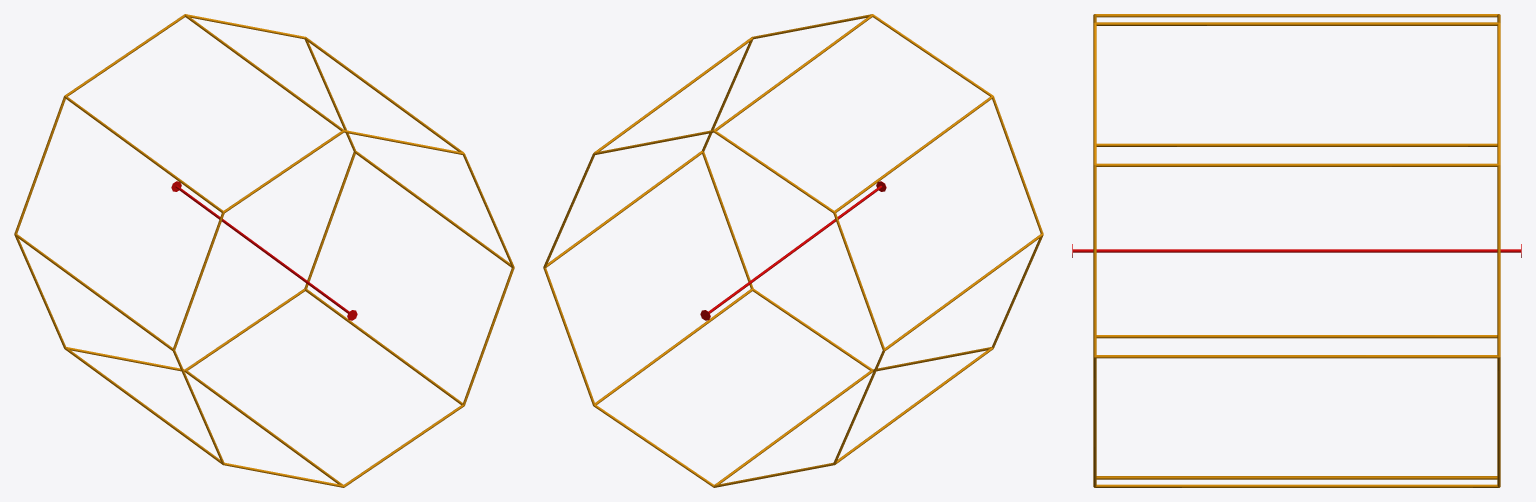
3 views of the same model, side by side, from view 1: azimuth 30°, elevation 25°; view 2: azimuth 150°, elevation 25°; view 3: azimuth 270°, elevation 25° (orthographic). The views are drawn at different scales.
Size of the model in its own units: 963 by 963 by 858.
